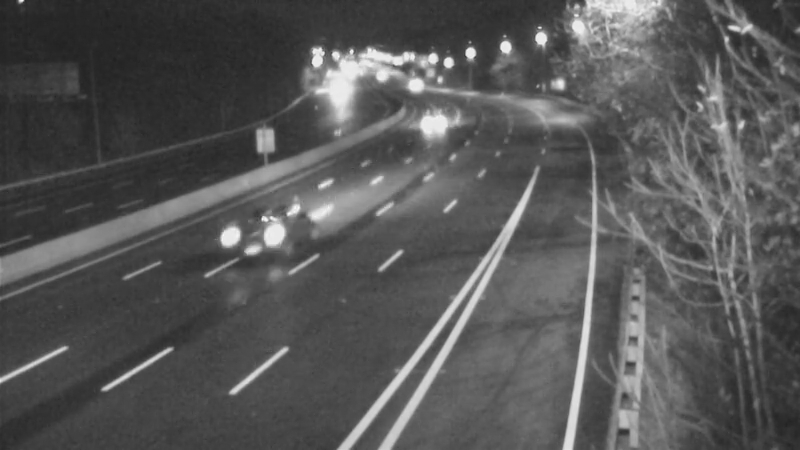vehicle: (214, 200, 294, 280), (386, 58, 436, 108), (410, 97, 460, 147)
